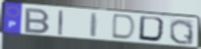B: (23, 7, 52, 35)
D: (137, 15, 169, 44), (110, 13, 138, 41)
I: (89, 12, 101, 39), (57, 9, 65, 36)
Q: (169, 18, 195, 46)
